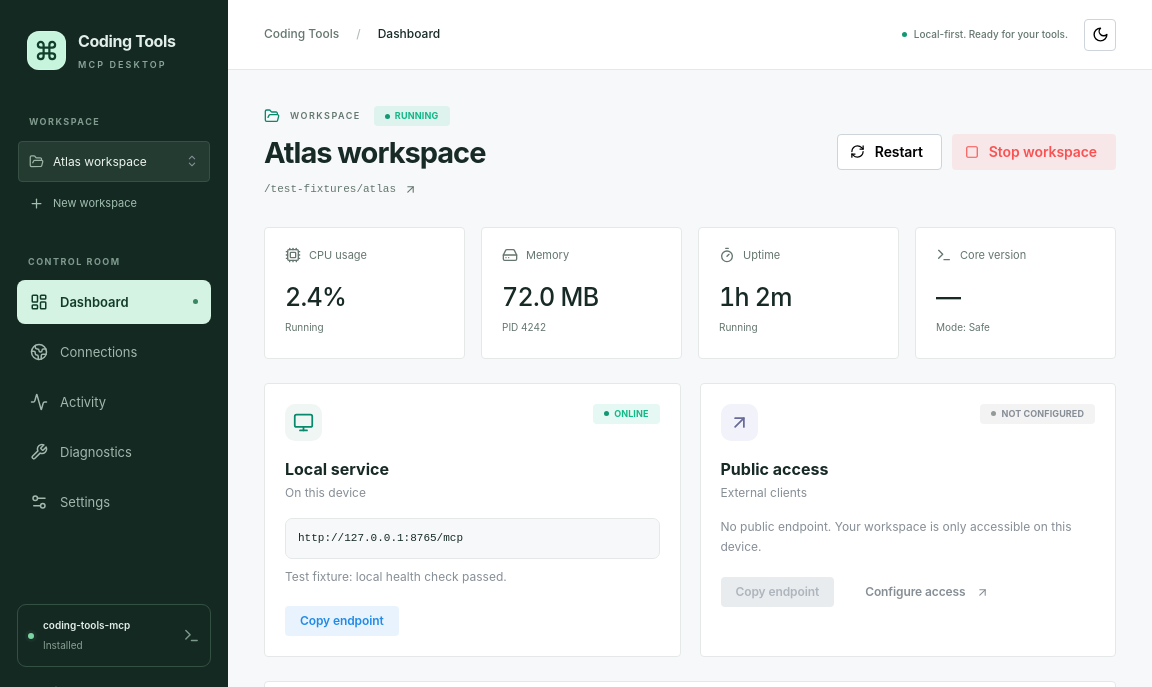
snapshot and connection ordering › refreshes the port warning immediately even when Stop rejects
Click the button "Stop workspace" at (1034, 152), box [952,134,1116,170]
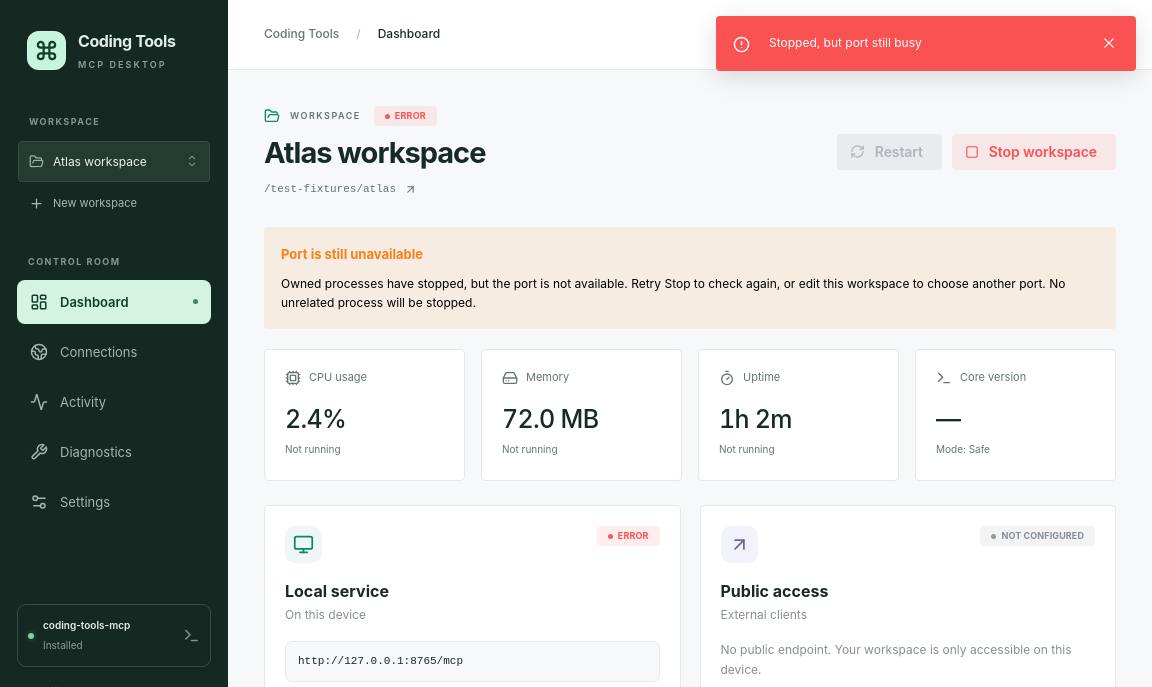
Expected: the button "Restart" is disabled, [837,134,942,170]
Expected: the text "Stopped, but port still busy" is shown, [769,35,922,50]
